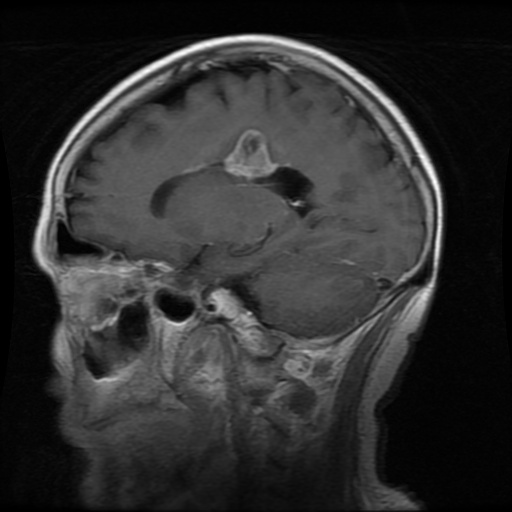glioma: (225, 130, 280, 178)
